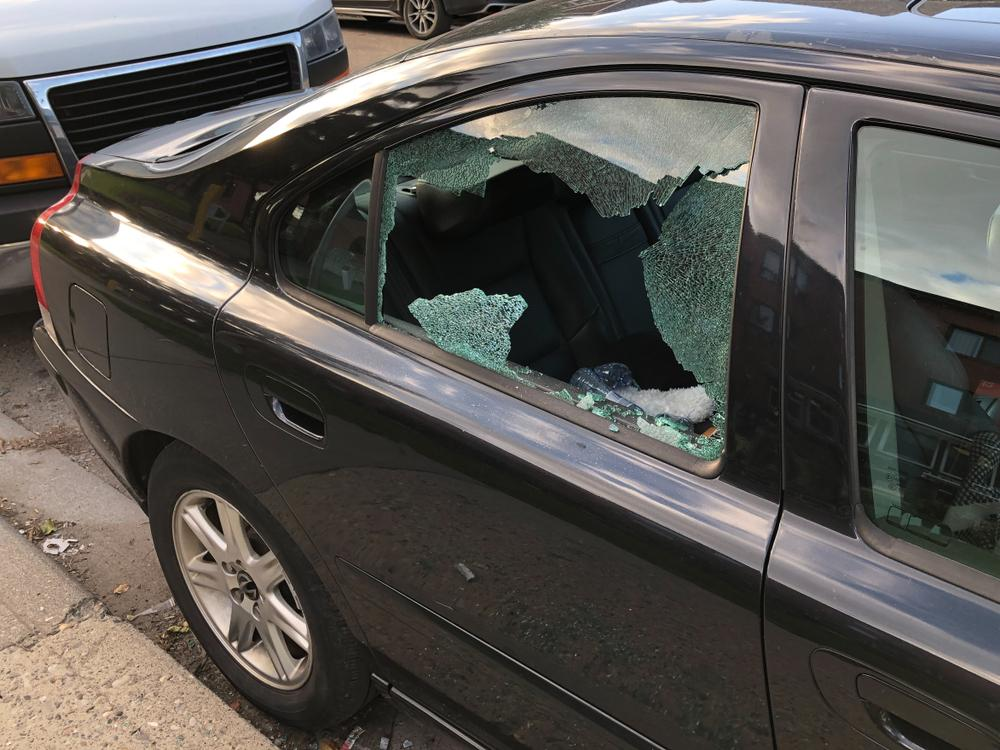glass shatter: (377, 95, 759, 460)
